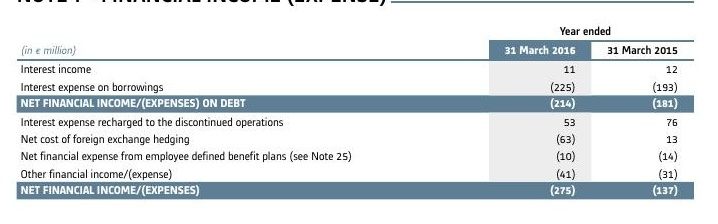table: (0, 0, 718, 224)
